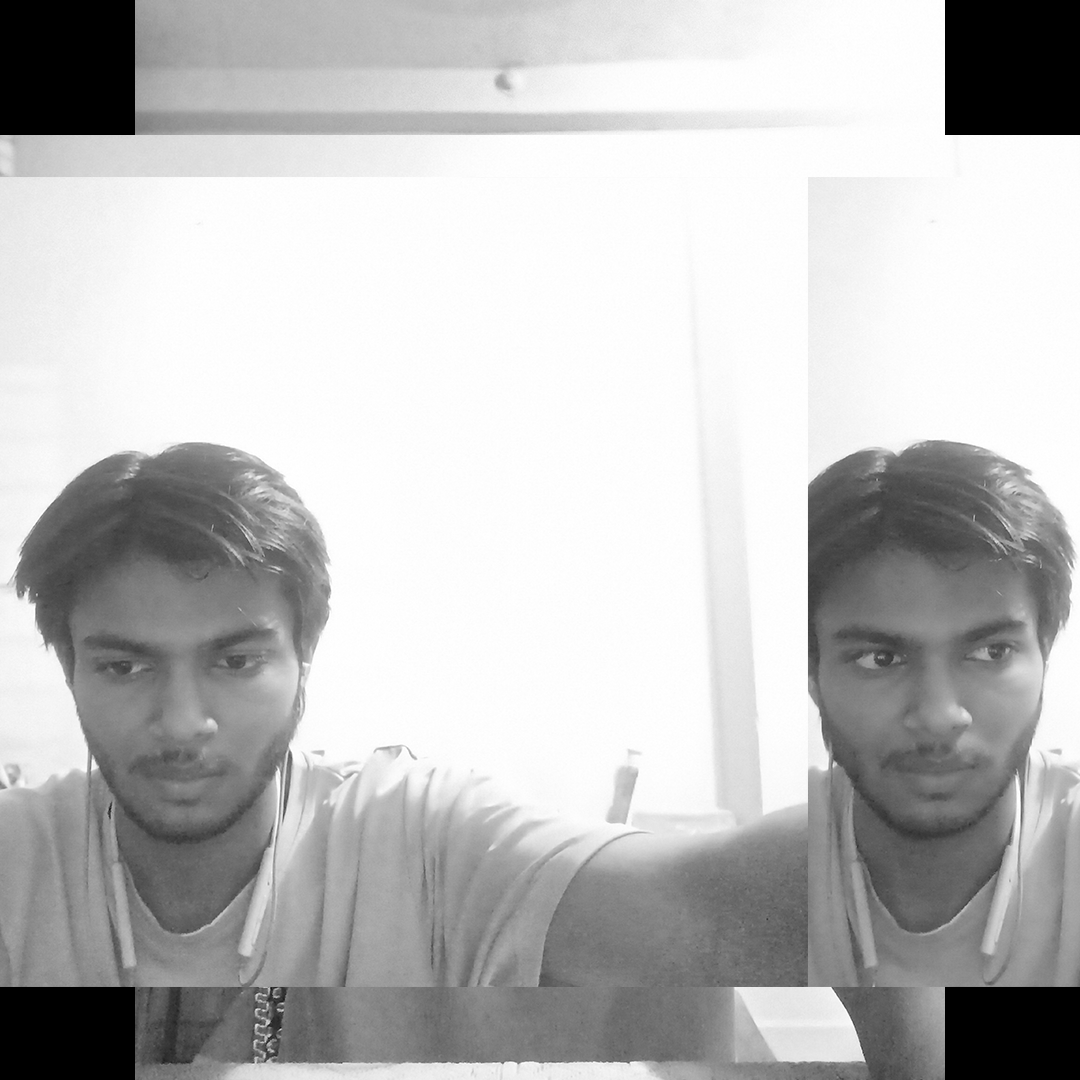Focused: (23, 376, 411, 951), (731, 377, 1075, 948)
